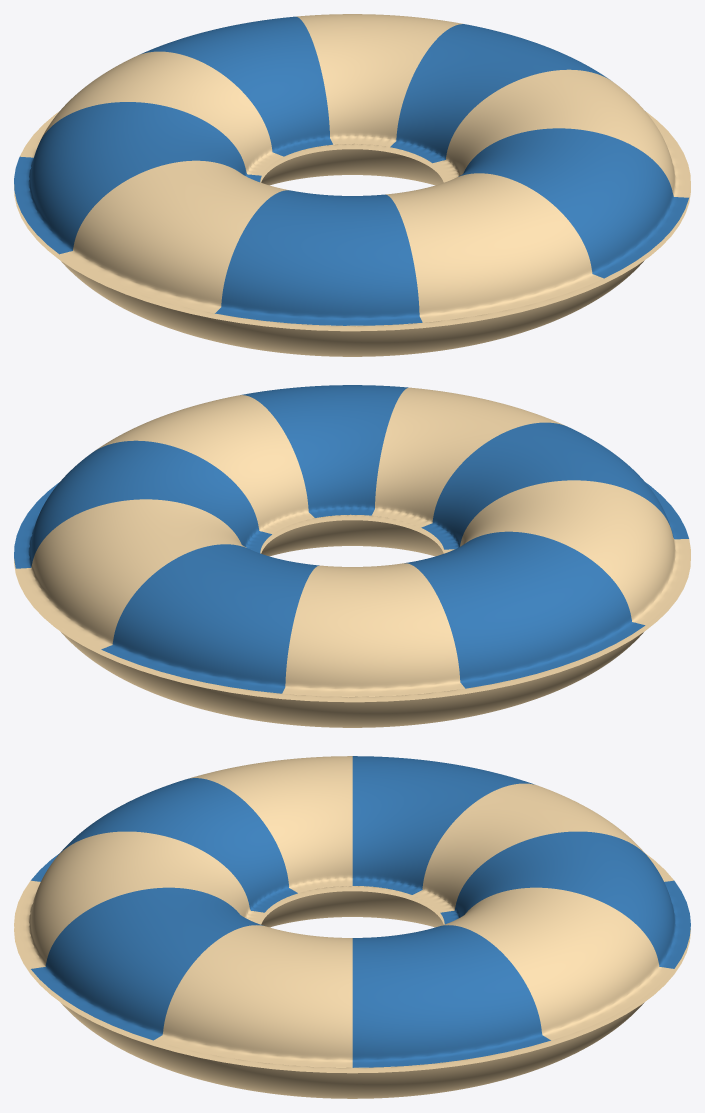
Rendered from 游泳圈.glb.
The picture shows the model from 3 angles, top to bottom: view 1: azimuth 30°, elevation 25°; view 2: azimuth 150°, elevation 25°; view 3: azimuth 270°, elevation 25°; orthographic projection.
Visible parts, largest first — view 1: 環體; view 2: 環體; view 3: 環體.
Part boxes in pixels (x1,y1,x2,y2): 環體: (14, 14, 690, 356); 環體: (14, 385, 690, 727); 環體: (14, 756, 690, 1098).
Size of the model in its own units: 3.14 by 0.6808 by 3.14.
